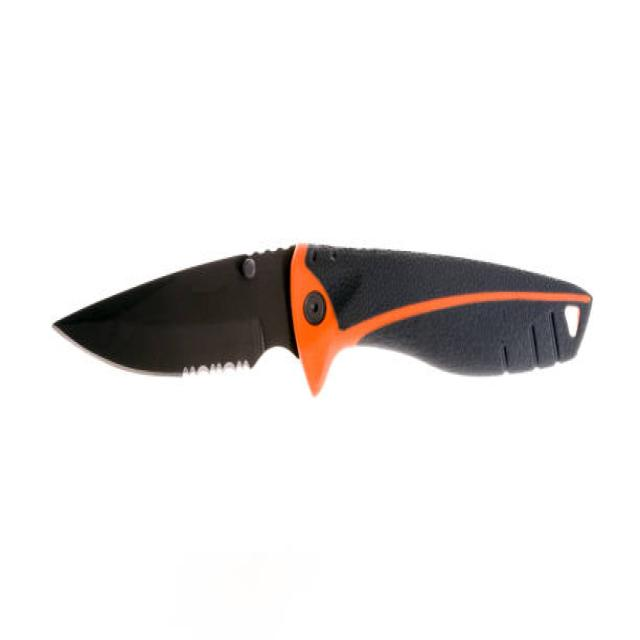knife: (41, 229, 596, 414)
